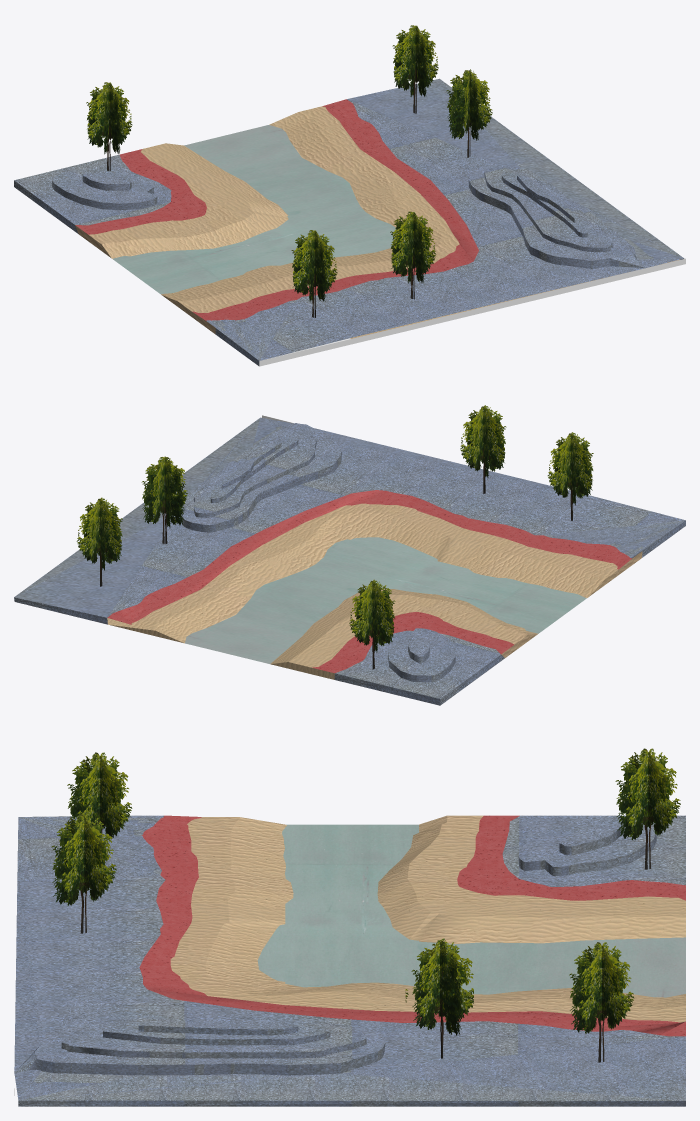
Rendered from Fluss_Rechts1.fbx.
The picture shows the model from 3 angles, top to bottom: view 1: azimuth 30°, elevation 25°; view 2: azimuth 150°, elevation 25°; view 3: azimuth 270°, elevation 25°; orthographic projection. The views are drawn at different scales.
Visible parts, largest first — view 1: fluss_kurve1; view 2: fluss_kurve1; view 3: fluss_kurve1.
Part boxes in pixels (x1,y1,x2,y2): fluss_kurve1: [14, 25, 685, 366]; fluss_kurve1: [14, 405, 685, 705]; fluss_kurve1: [14, 748, 685, 1106].
Bounding box in the file's own units: 200 × 43 × 201.
